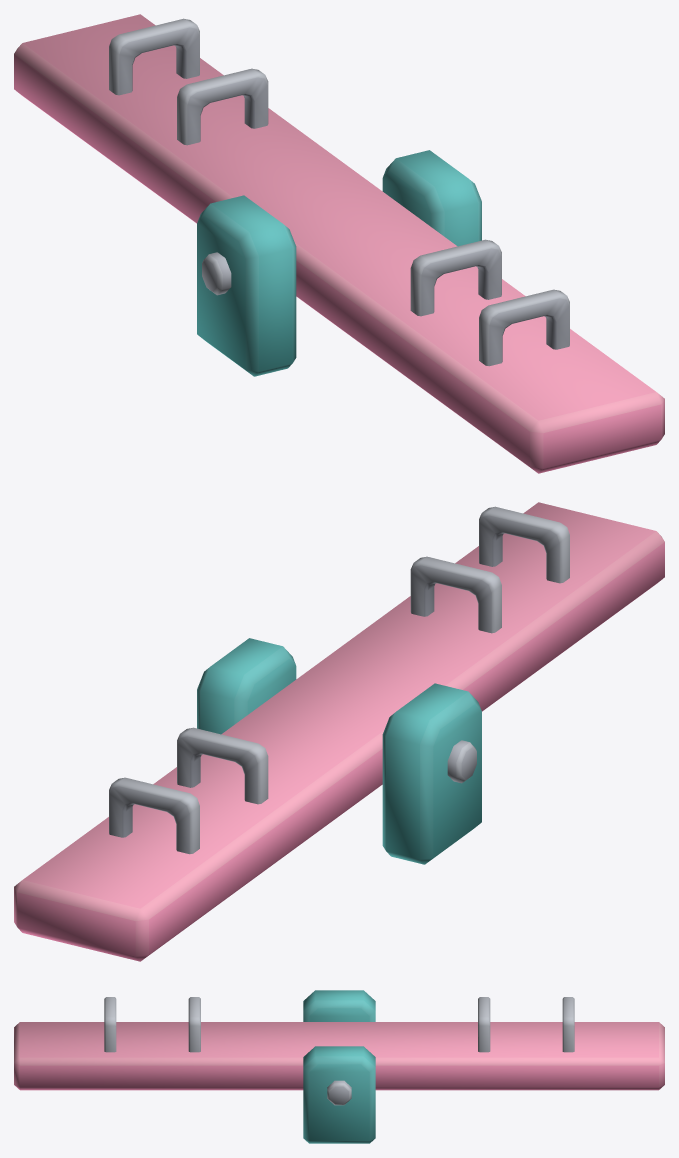
The model's file is seesaw_large.glb.
3 renders of one model, top to bottom at view 1: azimuth 30°, elevation 25°; view 2: azimuth 150°, elevation 25°; view 3: azimuth 270°, elevation 25°, orthographic. The views are drawn at different scales.
Parts seen in each view (by area): view 1: seesaw_large_seat, seesaw_large; view 2: seesaw_large_seat, seesaw_large; view 3: seesaw_large_seat, seesaw_large.
Boxes of the visible parts, <box> form: seesaw_large_seat: <box>14,14,664,473</box>; seesaw_large: <box>197,150,481,376</box>; seesaw_large_seat: <box>14,502,664,961</box>; seesaw_large: <box>197,638,481,864</box>; seesaw_large_seat: <box>14,997,664,1090</box>; seesaw_large: <box>303,990,375,1143</box>.
Bounding box in the file's own units: 1.54 × 0.95 × 5.4.
Materials: 1 (1 with a texture image).
